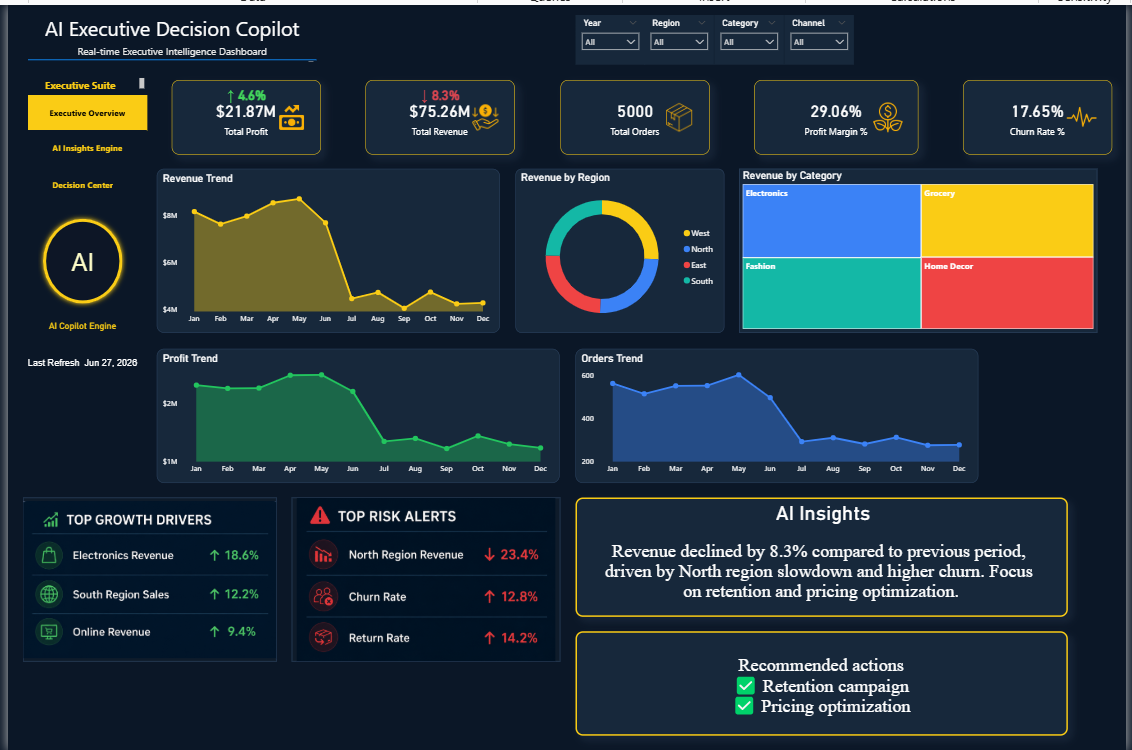

This screenshot's page, from the dashboard's own definition file:
{"tool":"powerbi","page":{"name":"Executive Overview","canvas":[1800,1200],"ordinal":0},"visuals":[{"type":"shape","box":[32,0,464,176],"z":0},{"type":"textbox","title":"AI Executive Decision Copilot","box":[32,16,464,80],"z":1000},{"type":"slicer","fields":{"Values":["Date_Table.Year"]},"box":[912,16,112,80],"z":2000},{"type":"slicer","fields":{"Values":["Sales_Data.Region"]},"box":[1024,16,112,80],"z":3000},{"type":"slicer","fields":{"Values":["Sales_Data.Category"]},"box":[1136,16,112,80],"z":4000},{"type":"slicer","fields":{"Values":["Sales_Data.Channel"]},"box":[1248,16,112,80],"z":5000},{"type":"card","fields":{"Values":["KPI_Table.Total Revenue"]},"box":[576,120,240,120],"z":6000},{"type":"card","fields":{"Values":["KPI_Table.Total Profit"]},"box":[264,120,240,120],"z":7000},{"type":"card","fields":{"Values":["KPI_Table.Total Orders"]},"box":[888,120,240,120],"z":8000},{"type":"card","fields":{"Values":["KPI_Table.Profit Margin %"]},"box":[1200,120,264,120],"z":9000},{"type":"card","fields":{"Values":["KPI_Table.Churn Rate %"]},"box":[1536,120,240,120],"z":10000},{"type":"textbox","box":[16,112,208,32],"z":11000},{"type":"pageNavigator","box":[32,144,192,57.1],"z":12000,"group":"g1"},{"type":"lineChart","title":"Revenue Trend","fields":{"Y":["KPI_Table.Total Revenue"],"Category":["Date_Table.Month"]},"box":[240,264,552,264],"z":12000},{"type":"pageNavigator","box":[32,201.1,192,57.1],"z":13000,"group":"g1"},{"type":"donutChart","title":"Revenue by Region","fields":{"Category":["Sales_Data.Region"],"Y":["KPI_Table.Total Revenue"]},"box":[816,264,336,264],"z":13000},{"type":"pageNavigator","box":[16,258.3,208,57.1],"z":14000,"group":"g1"},{"type":"treemap","title":"Revenue by Category","fields":{"Group":["Sales_Data.Category"],"Values":["KPI_Table.Total Revenue"]},"box":[1176,264,576,264],"z":14000},{"type":"shape","box":[48,334.5,144,152.4],"z":15000,"group":"g1"},{"type":"lineChart","title":"Profit Trend","fields":{"Category":["Date_Table.Month"],"Y":["KPI_Table.Total Profit"]},"box":[240,552,648,216],"z":15000},{"type":"card","fields":{"Values":["KPI_Table.DC Panel"]},"box":[16,486.9,208,57.1],"z":16000,"group":"g1"},{"type":"lineChart","title":"Orders Trend","fields":{"Category":["Date_Table.Month"],"Y":["KPI_Table.Total Orders"]},"box":[912,552,648,216],"z":16000},{"type":"group","id":"g1","title":"Group 1","box":[16,144,208,400],"z":17000},{"type":"card","fields":{"Values":["KPI_Table.AI"]},"box":[64,372.6,112,76.2],"z":18000,"group":"g1"},{"type":"image","title":"Top Growth Drivers","box":[24,792,408,264],"z":18000},{"type":"image","title":"Top Growth Drivers","box":[456,792,432,264],"z":19000},{"type":"card","title":"AI Insights","fields":{"Values":["KPI_Summary.AI Insights"]},"box":[912,792,792,192],"z":20000},{"type":"image","box":[432,144,48,72],"z":21000},{"type":"image","box":[744,144,48,72],"z":22000},{"type":"image","box":[1056,144,48,72],"z":23000},{"type":"image","box":[1392,144,48,72],"z":24000},{"type":"image","box":[1704,144,48,72],"z":25000},{"type":"card","fields":{"Values":["Customer_Data.Revenue change"]},"box":[648,120,96,48],"z":26000},{"type":"card","fields":{"Values":["Customer_Data.Profit Change"]},"box":[336,120,96,48],"z":27000},{"type":"card","title":"AI Insights","fields":{"Values":["Customer_Data.Recommended Actions"]},"box":[912,1008,792,168],"z":28000},{"type":"card","title":"AI Insights","fields":{"Values":["Customer_Data.Refresh"]},"box":[24,552,192,48],"z":29000}]}

Visuals, with their boxes in screenshot pixels (x1, y1, x2, y2), scaled from the page's 1800x1200 canvas onto the 1132x750 screenshot:
shape: 20,0,312,110
"AI Executive Decision Copilot" textbox: 20,10,312,60
slicer - Date_Table.Year: 574,10,644,60
slicer - Sales_Data.Region: 644,10,714,60
slicer - Sales_Data.Category: 714,10,785,60
slicer - Sales_Data.Channel: 785,10,855,60
card - KPI_Table.Total Revenue: 362,75,513,150
card - KPI_Table.Total Profit: 166,75,317,150
card - KPI_Table.Total Orders: 558,75,709,150
card - KPI_Table.Profit Margin %: 755,75,921,150
card - KPI_Table.Churn Rate %: 966,75,1117,150
textbox: 10,70,141,90
pageNavigator: 20,90,141,126
"Revenue Trend" lineChart: 151,165,498,330
pageNavigator: 20,126,141,161
"Revenue by Region" donutChart: 513,165,724,330
pageNavigator: 10,161,141,197
"Revenue by Category" treemap: 740,165,1102,330
shape: 30,209,121,304
"Profit Trend" lineChart: 151,345,558,480
card - KPI_Table.DC Panel: 10,304,141,340
"Orders Trend" lineChart: 574,345,981,480
"Group 1" group: 10,90,141,340
card - KPI_Table.AI: 40,233,111,280
"Top Growth Drivers" image: 15,495,272,660
"Top Growth Drivers" image: 287,495,558,660
"AI Insights" card: 574,495,1072,615
image: 272,90,302,135
image: 468,90,498,135
image: 664,90,694,135
image: 875,90,906,135
image: 1072,90,1102,135
card - Customer_Data.Revenue change: 408,75,468,105
card - Customer_Data.Profit Change: 211,75,272,105
"AI Insights" card: 574,630,1072,735
"AI Insights" card: 15,345,136,375
